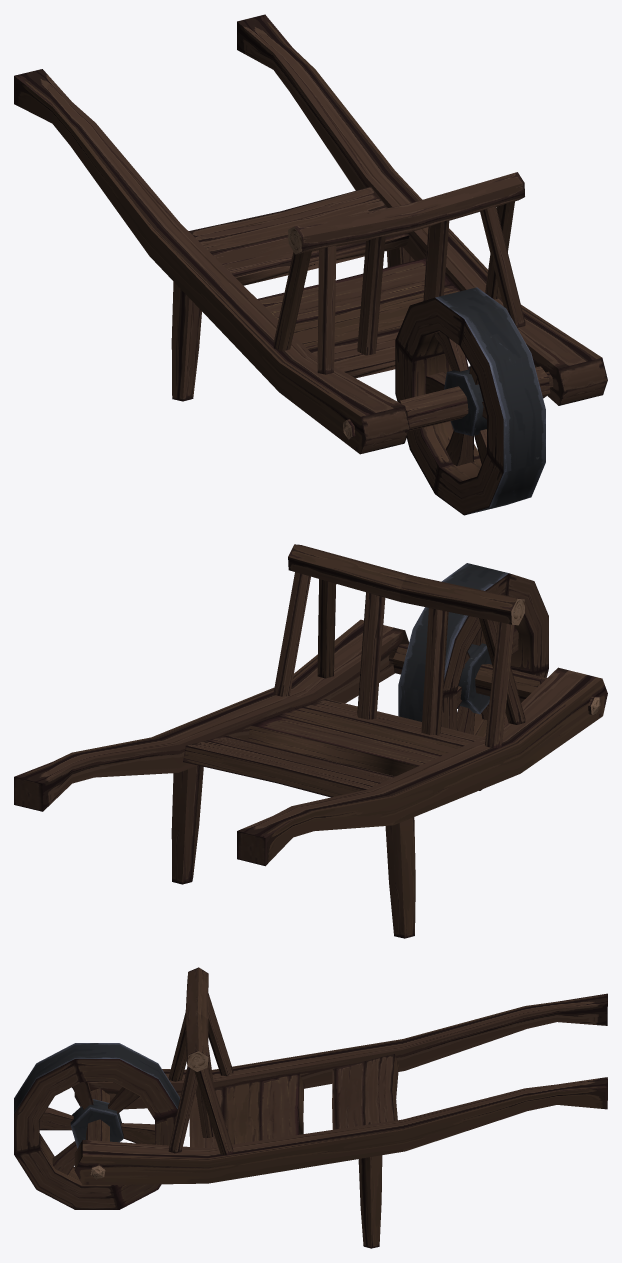
File: SM_PROP_wheelbarrow_battle.fbx
3 views of the same model, one above another, from view 1: azimuth 30°, elevation 25°; view 2: azimuth 150°, elevation 25°; view 3: azimuth 270°, elevation 25° (orthographic). The views are drawn at different scales.
Parts seen in each view (by area): view 1: SM_PROP_wheelbarrow_battle, SM_PROP_wheelbarrow_wheel_battle; view 2: SM_PROP_wheelbarrow_battle, SM_PROP_wheelbarrow_wheel_battle; view 3: SM_PROP_wheelbarrow_battle, SM_PROP_wheelbarrow_wheel_battle.
Boxes of the visible parts, left/top/right/bottom form: SM_PROP_wheelbarrow_battle: left=14, top=14, right=607, bottom=454; SM_PROP_wheelbarrow_wheel_battle: left=395, top=287, right=545, bottom=515; SM_PROP_wheelbarrow_battle: left=14, top=544, right=607, bottom=938; SM_PROP_wheelbarrow_wheel_battle: left=398, top=563, right=548, bottom=790; SM_PROP_wheelbarrow_battle: left=74, top=967, right=607, bottom=1248; SM_PROP_wheelbarrow_wheel_battle: left=14, top=1043, right=180, bottom=1209.
Size of the model in its own units: 94.86 by 90.31 by 251.
